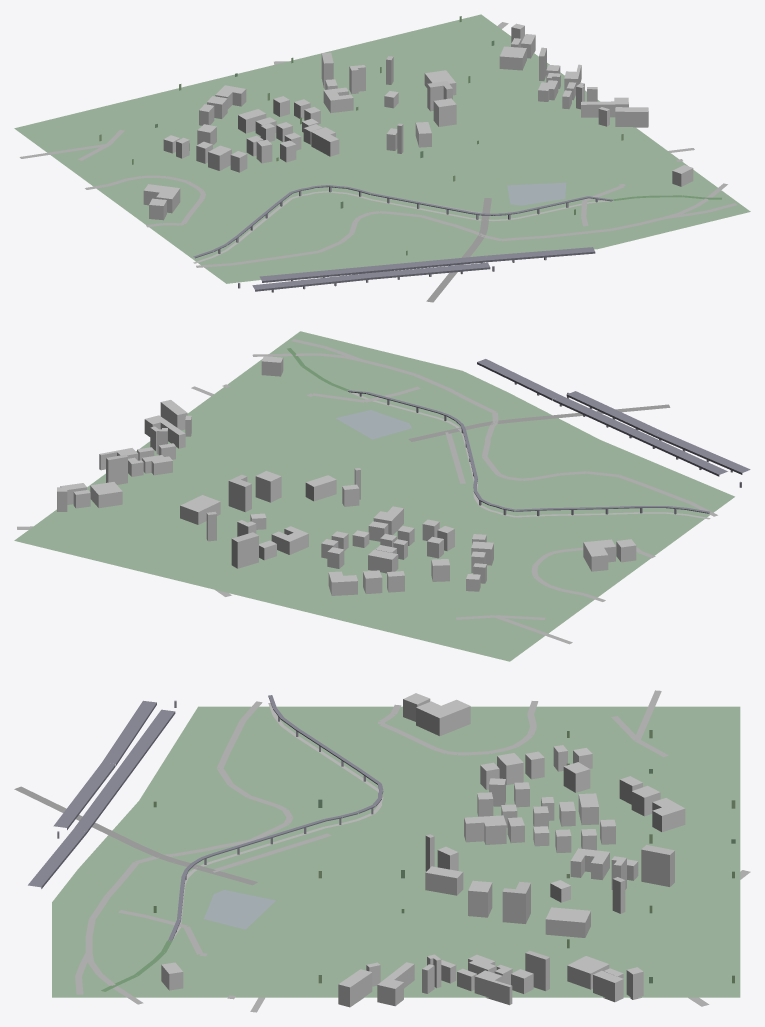
3 views of the same model, one above another, from view 1: azimuth 30°, elevation 25°; view 2: azimuth 150°, elevation 25°; view 3: azimuth 270°, elevation 25° (orthographic). The views are drawn at different scales.
Size of the model in its own units: 553 by 29.63 by 535.
